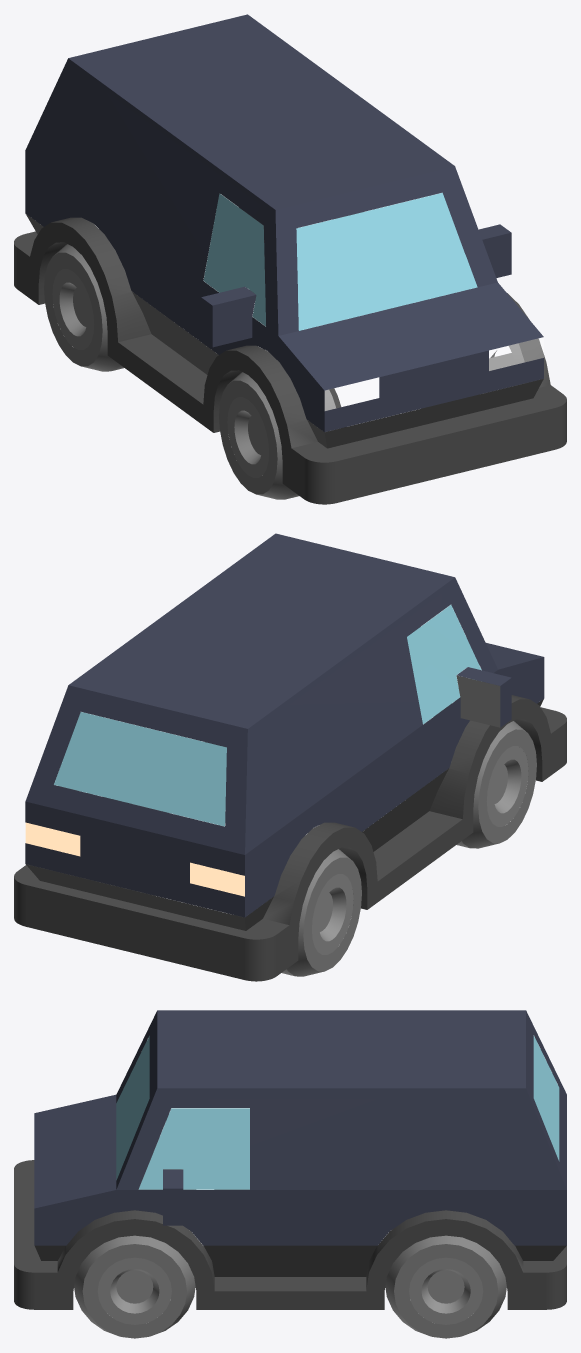
Rendered from car.glb.
3 views of the same model, one above another, from view 1: azimuth 30°, elevation 25°; view 2: azimuth 150°, elevation 25°; view 3: azimuth 270°, elevation 25° (orthographic). The views are drawn at different scales.
Parts seen in each view (by area): view 1: body; view 2: body; view 3: body.
Boxes of the visible parts, left/top/right/bottom form: body: left=14, top=14, right=566, bottom=504; body: left=14, top=533, right=566, bottom=981; body: left=14, top=1010, right=566, bottom=1338.
Size of the model in its own units: 1.8 by 1.56 by 3.24.
